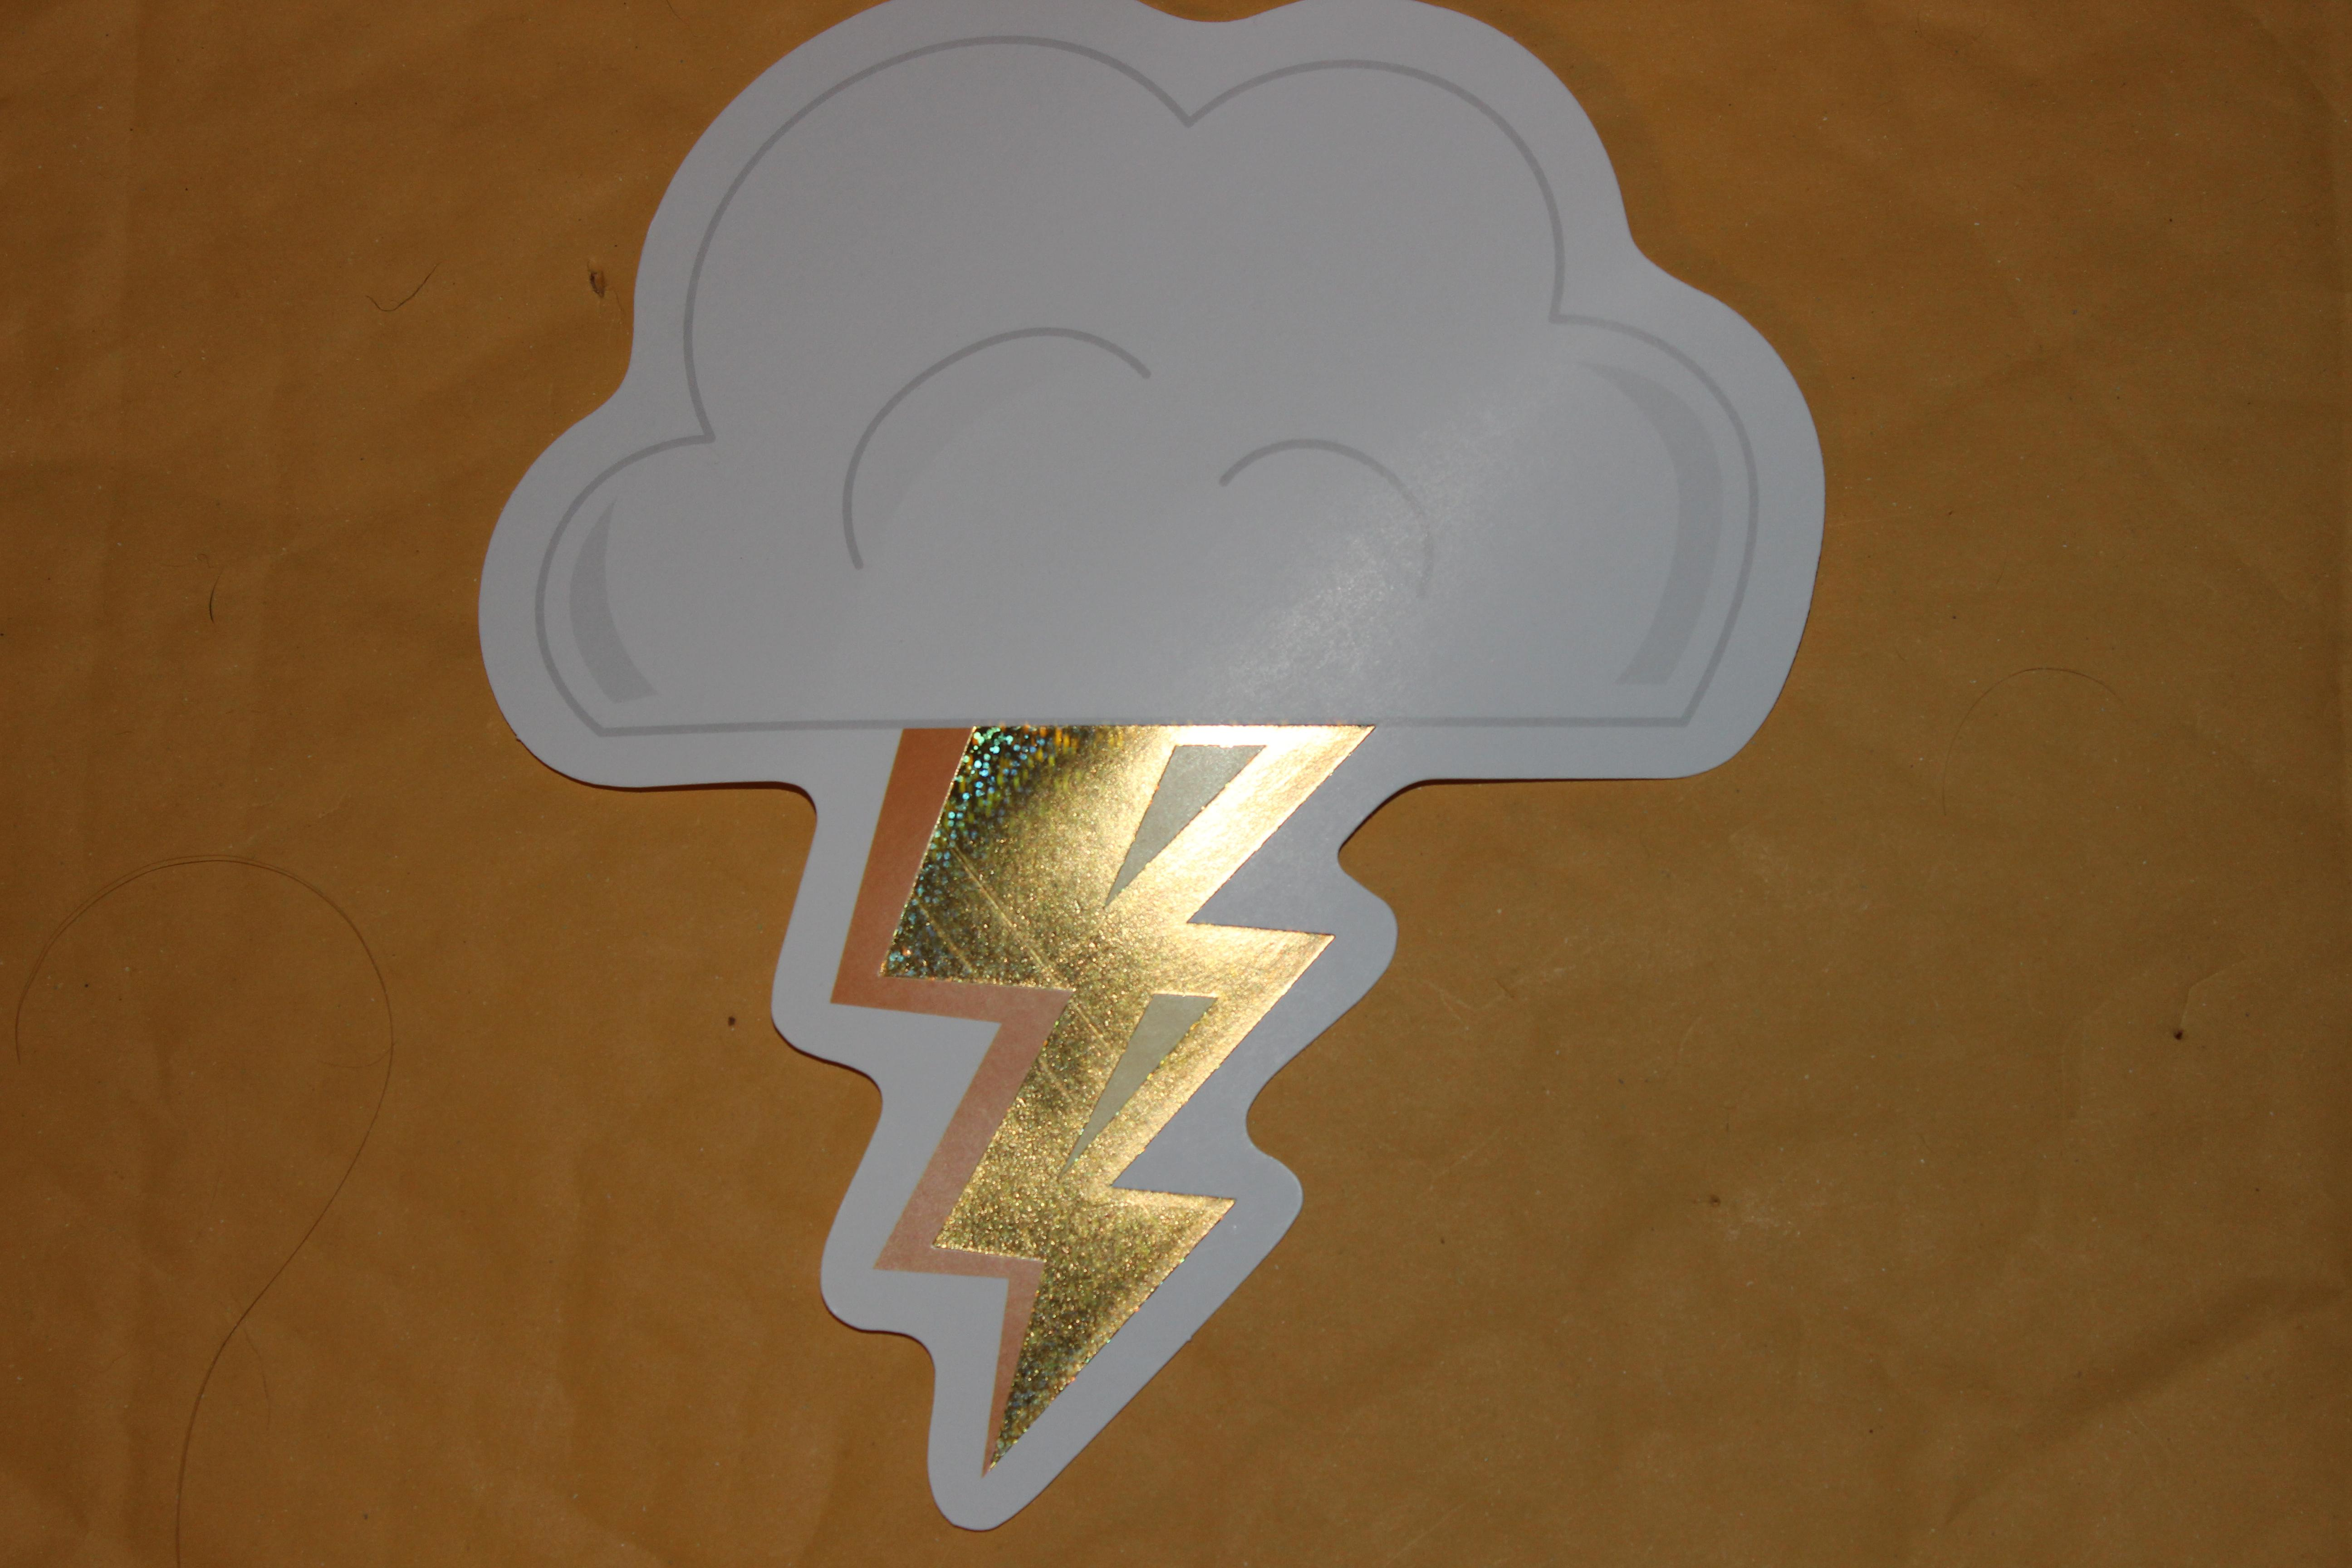cloudSign: (464, 0, 1855, 1556)
